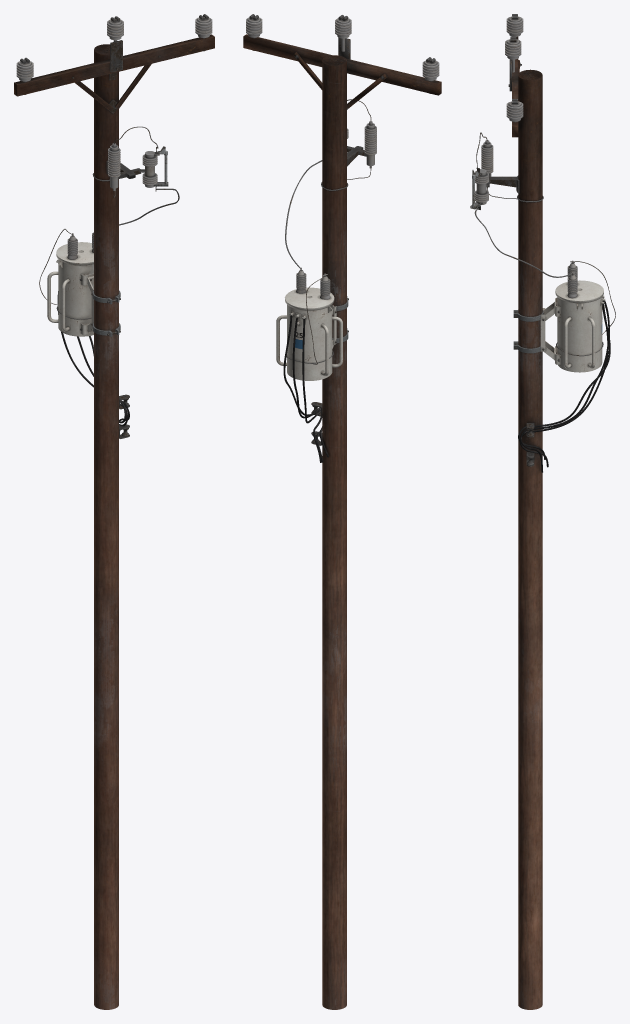
File: wood_pole_02.fbx
The picture shows the model from 3 angles, left to right: view 1: azimuth 30°, elevation 25°; view 2: azimuth 150°, elevation 25°; view 3: azimuth 270°, elevation 25°; orthographic projection. The views are drawn at different scales.
Parts seen in each view (by area): view 1: 2_wood_pole; view 2: 2_wood_pole; view 3: 2_wood_pole.
Boxes of the visible parts, left/top/right/bottom form: 2_wood_pole: left=14, top=14, right=214, bottom=1009; 2_wood_pole: left=243, top=14, right=441, bottom=1009; 2_wood_pole: left=470, top=14, right=615, bottom=1009.
Size of the model in its own units: 300 by 1441 by 197.
Materials: 1 (1 with a texture image).
